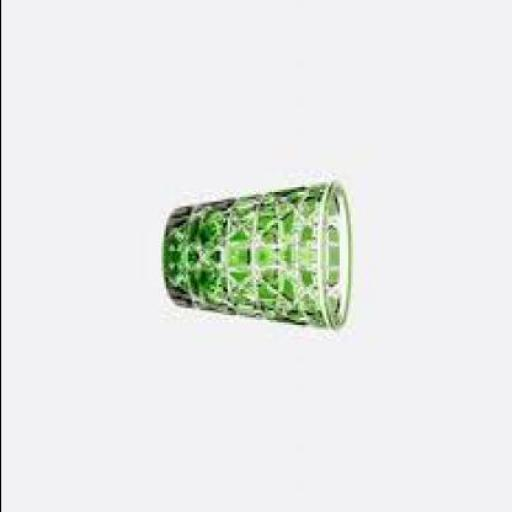glass: (165, 180, 352, 327)
